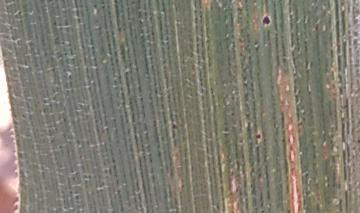tarspot: (261, 14, 272, 26), (255, 133, 261, 140), (172, 123, 177, 129)
